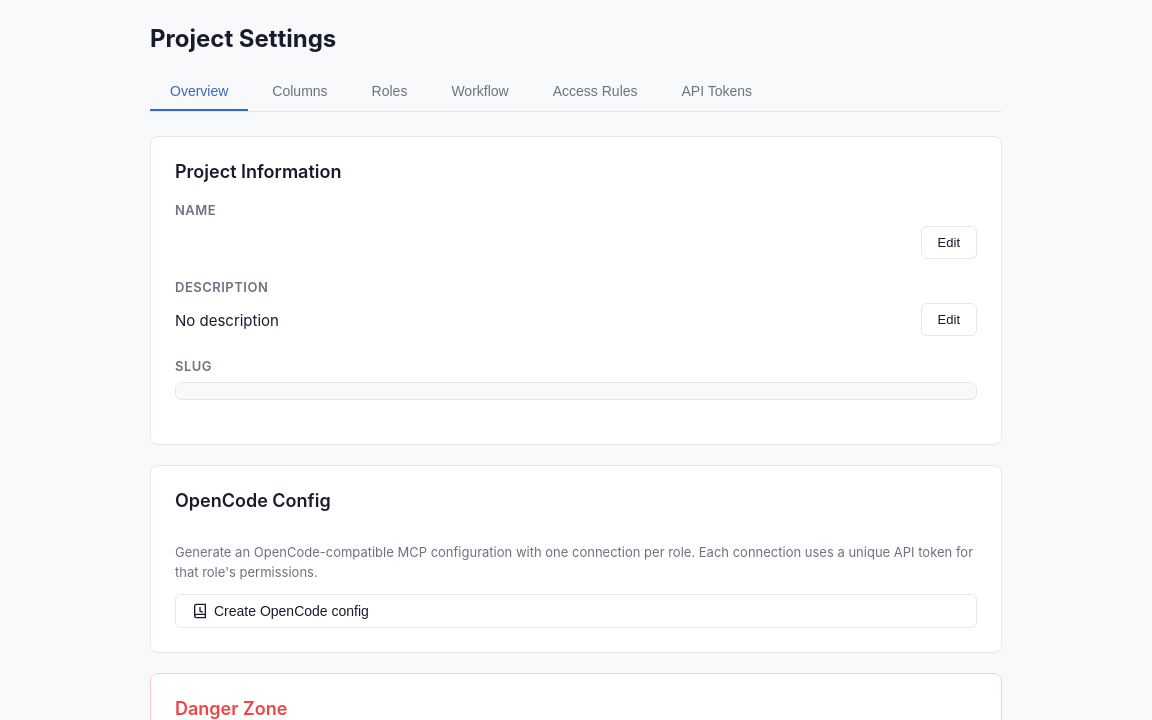
Test: Settings › shows editing mode for project name
The width and height of the screenshot is (1152, 720).
Click the 1st button with class "edit-btn". click: (949, 242)
box: [921, 226, 977, 259]
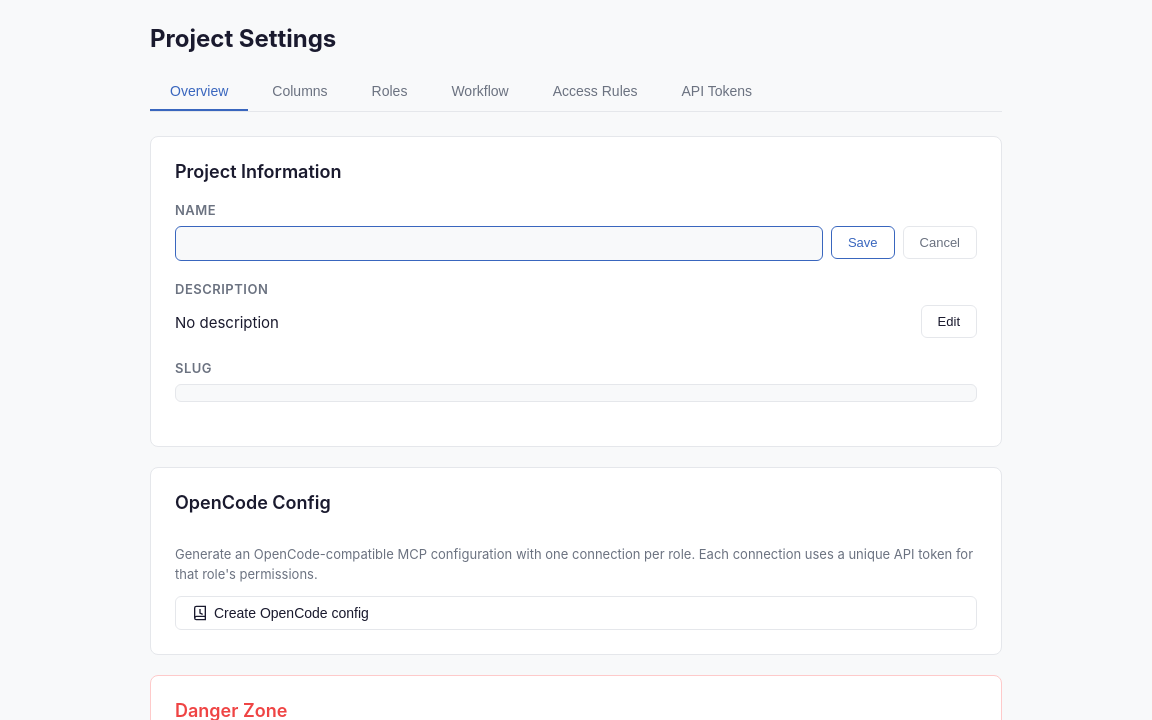
Check: the field is shown, box [175, 226, 823, 261]
Check: the button with class "save-btn" is shown, box [831, 226, 894, 259]
Check: the button with class "cancel-btn" is shown, box [902, 226, 977, 259]
